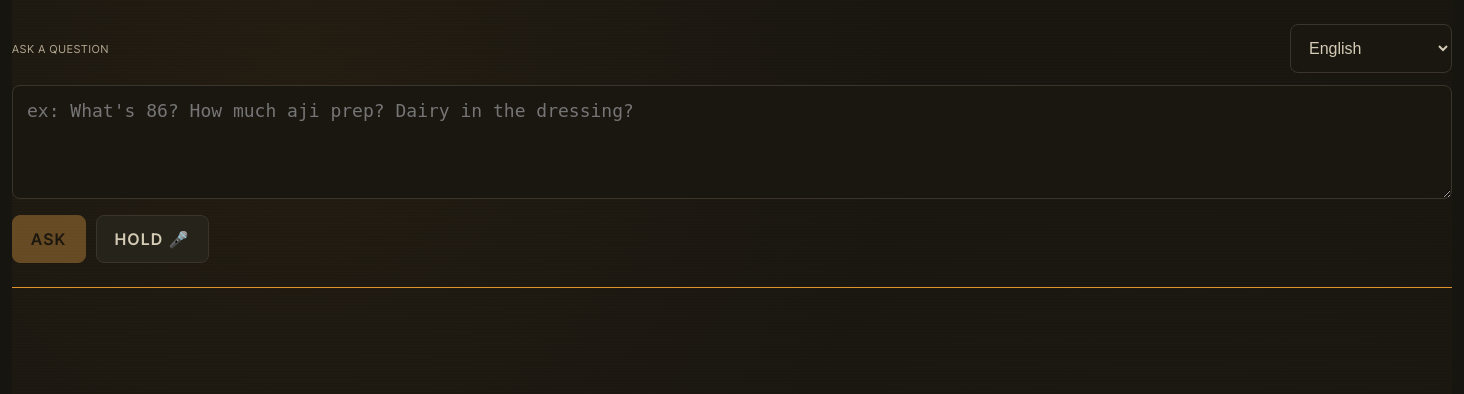
Test: shows a cook-readable mic warning after a speech-recognition error
Press the mouse on the button with aria-label "start voice input" at (152, 239), box [96,215,209,263]
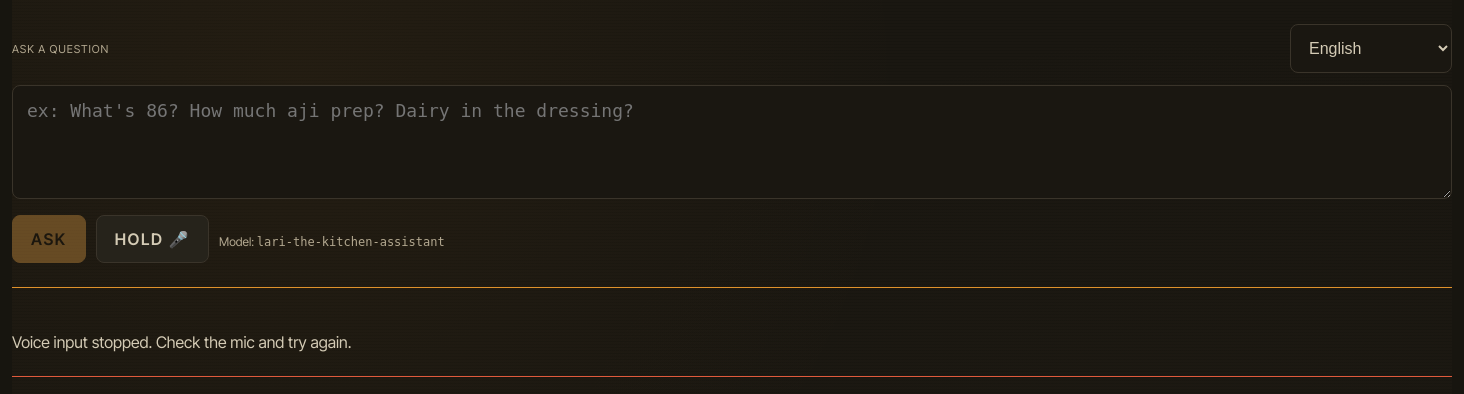
Expected: the message reads "Voice input stopped. Check the mic and try again.", [12,332,351,352]
